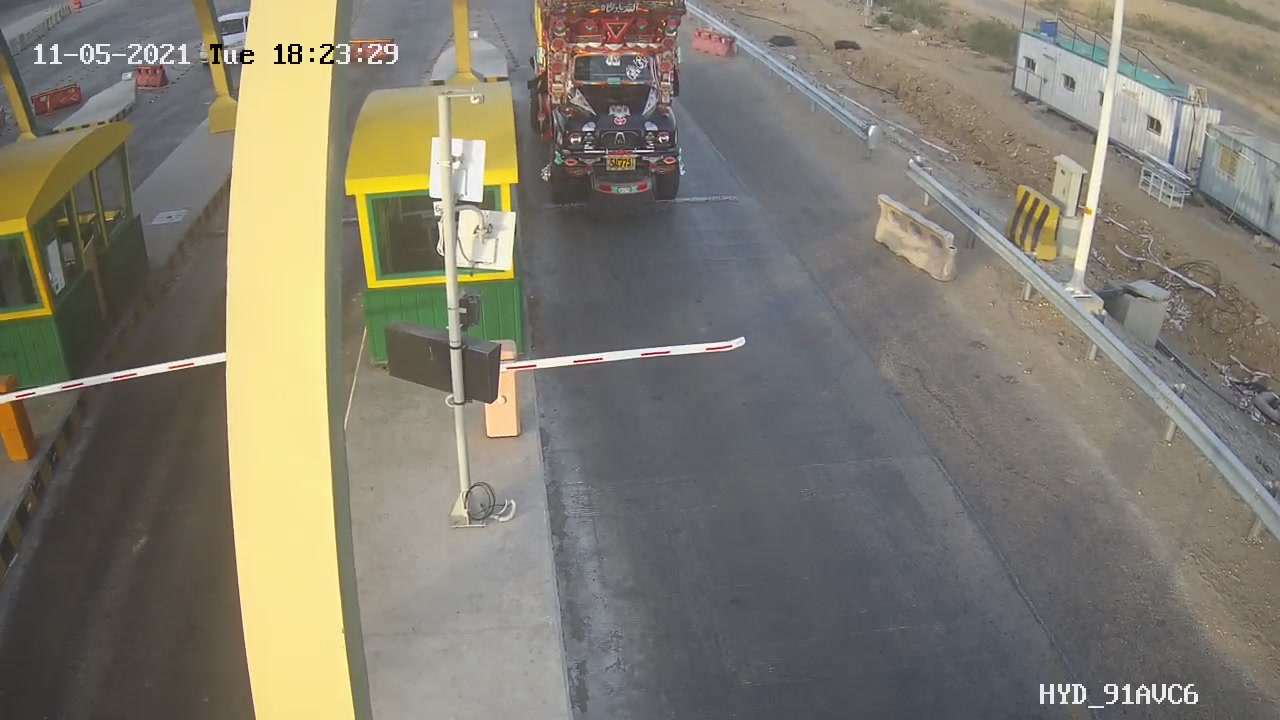F5: (529, 7, 701, 213)
